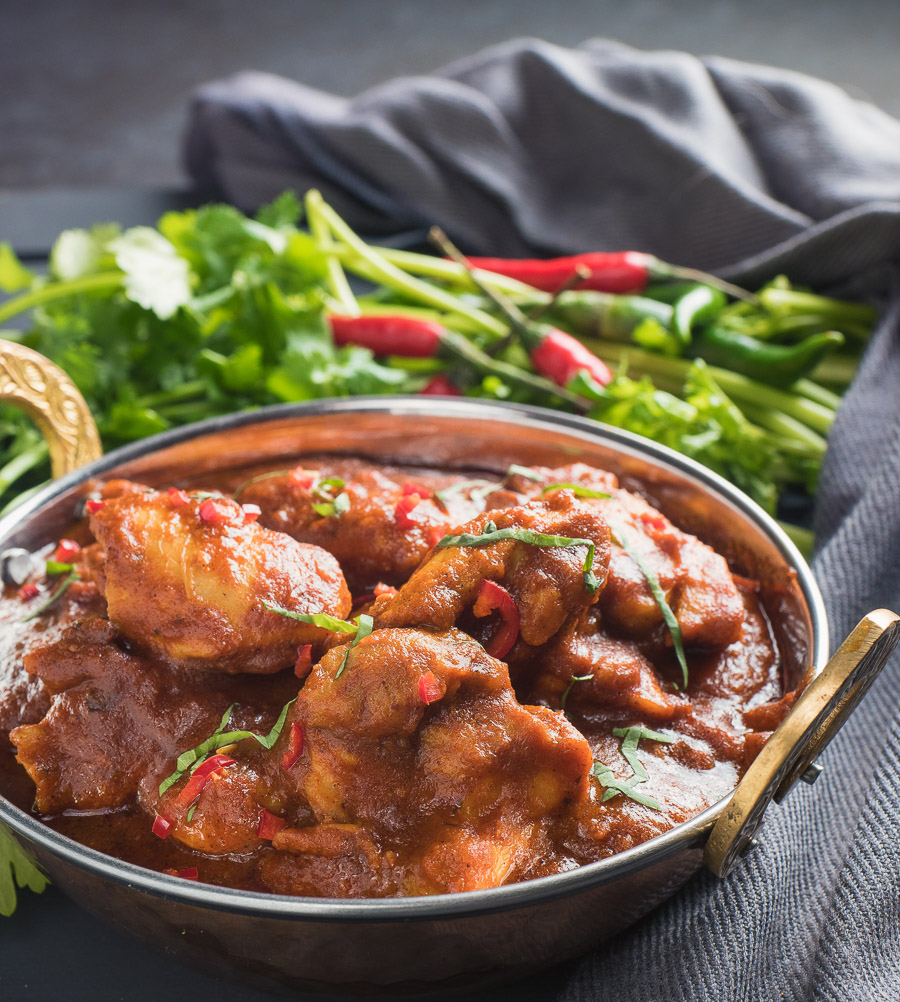chicken_curry: (73, 483, 729, 860)
